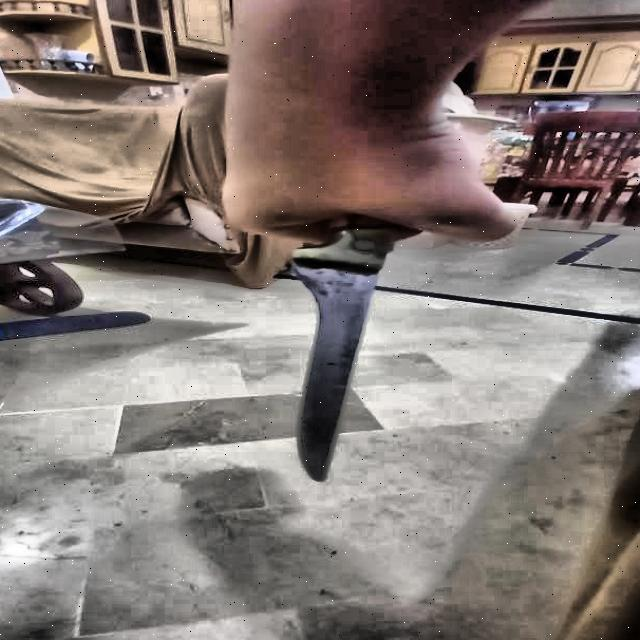knife: (292, 219, 397, 479)
